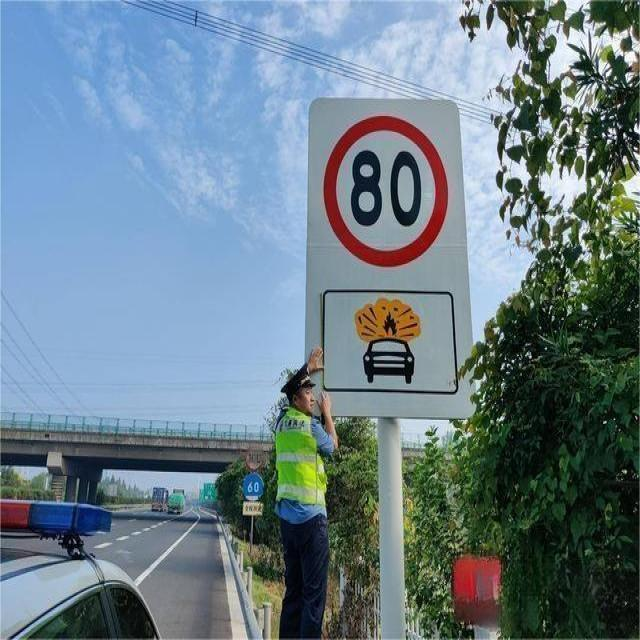speed limit 80: (322, 113, 449, 268)
